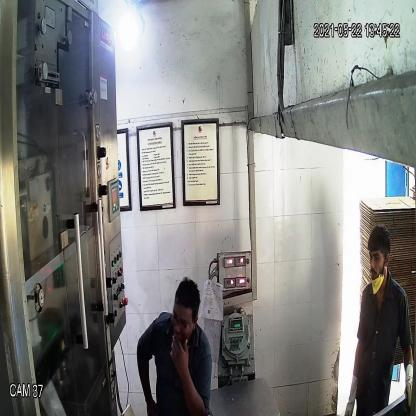goggles: (170, 310, 196, 331)
no_goggles: (366, 249, 388, 264)
